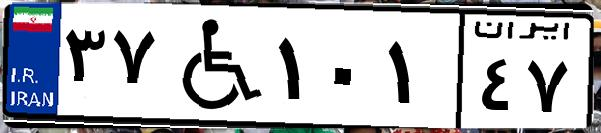0: (330, 28, 385, 110)
1: (270, 28, 330, 110), (385, 28, 445, 110)
3: (57, 26, 110, 100)
4: (475, 38, 525, 113)
7: (525, 38, 570, 115), (110, 28, 158, 98)
ژ (معلولین و جانبازان): (158, 12, 270, 120)
